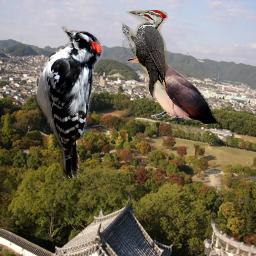Cuckoo: (127, 53, 219, 125)
Woodpecker: (33, 26, 105, 178), (122, 10, 168, 100)
